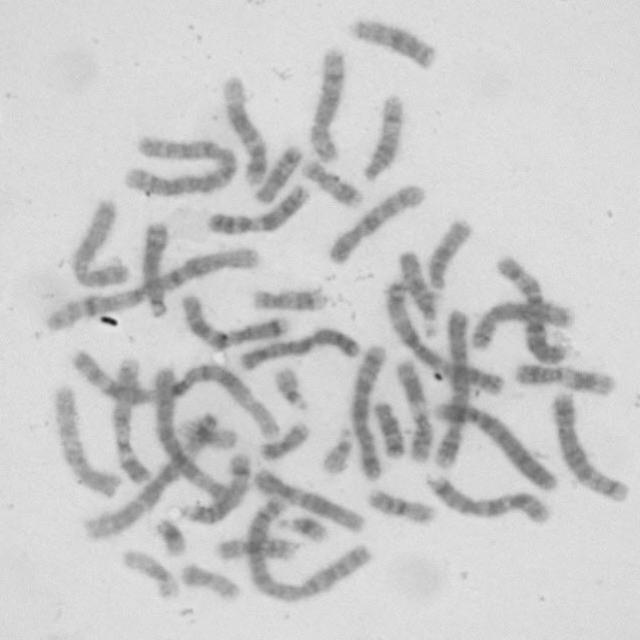A1: (71, 352, 280, 446), (41, 248, 261, 333)
A2: (245, 494, 372, 601), (120, 134, 238, 196)
A3: (83, 411, 220, 539), (386, 283, 504, 395)
B4: (428, 404, 558, 491), (430, 309, 472, 472)
B5: (550, 389, 630, 505), (348, 343, 388, 481)
C10: (54, 385, 123, 499), (326, 186, 426, 264)
C11: (394, 356, 432, 464), (512, 360, 615, 398)
C12: (252, 469, 366, 533), (220, 77, 266, 186)
C6: (152, 367, 232, 503), (492, 255, 568, 364)
C7: (422, 471, 552, 525), (180, 296, 290, 350)
C8: (468, 300, 575, 350), (308, 46, 346, 160)
C9: (110, 356, 154, 484), (206, 186, 310, 235)
D13: (348, 20, 436, 69), (141, 220, 170, 318)
D14: (180, 452, 252, 524), (362, 95, 403, 182)
D15: (398, 248, 440, 341), (426, 220, 474, 288)
E16: (366, 489, 436, 524), (216, 537, 300, 561)
E17: (304, 161, 362, 209), (250, 286, 326, 312)
E18: (252, 144, 306, 205), (372, 399, 406, 458)
F19: (119, 550, 179, 601), (172, 424, 238, 454)
F20: (180, 562, 240, 602), (260, 420, 312, 460)
G21: (274, 366, 308, 413), (154, 518, 188, 558)
G22: (320, 428, 354, 473), (276, 515, 326, 544)
X: (70, 197, 131, 288), (238, 325, 360, 370)
